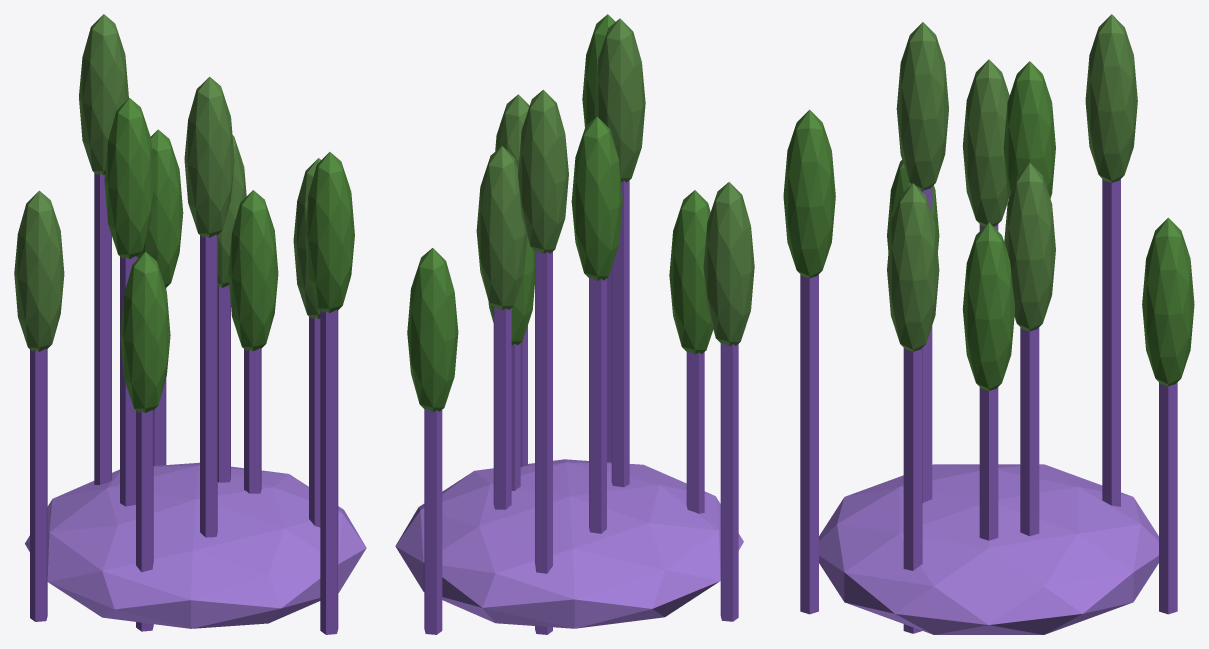
The model's file is M16_Lavender.fbx.
3 views of the same model, side by side, from view 1: azimuth 30°, elevation 25°; view 2: azimuth 150°, elevation 25°; view 3: azimuth 270°, elevation 25° (orthographic). The views are drawn at different scales.
Visible parts, largest first — view 1: M16_Lavender; view 2: M16_Lavender; view 3: M16_Lavender.
Boxes of the visible parts, box(x1,y1,x2,y2) form: M16_Lavender: box(14, 14, 366, 634); M16_Lavender: box(395, 14, 754, 634); M16_Lavender: box(783, 14, 1194, 634).
Size of the model in its own units: 1.98 by 3.15 by 2.07.
1 material, 1 textured.
